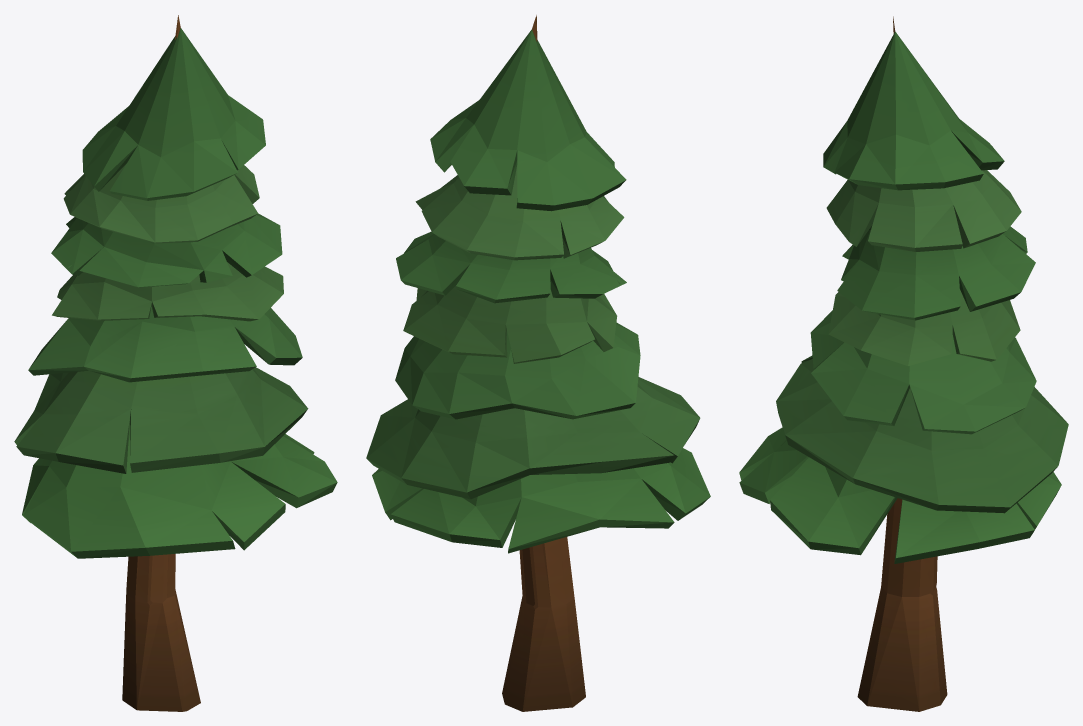
The model's file is tree_fir.glb.
The picture shows the model from 3 angles, left to right: view 1: azimuth 30°, elevation 25°; view 2: azimuth 150°, elevation 25°; view 3: azimuth 270°, elevation 25°; orthographic projection.
Visible parts, largest first — view 1: tree_fir; view 2: tree_fir; view 3: tree_fir.
Boxes of the visible parts, left/top/right/bottom form: tree_fir: left=14, top=15, right=337, bottom=711; tree_fir: left=366, top=15, right=710, bottom=711; tree_fir: left=739, top=16, right=1068, bottom=711.
Bounding box in the file's own units: 1.87 × 4.2 × 1.83.
Materials: 1 (1 with a texture image).
